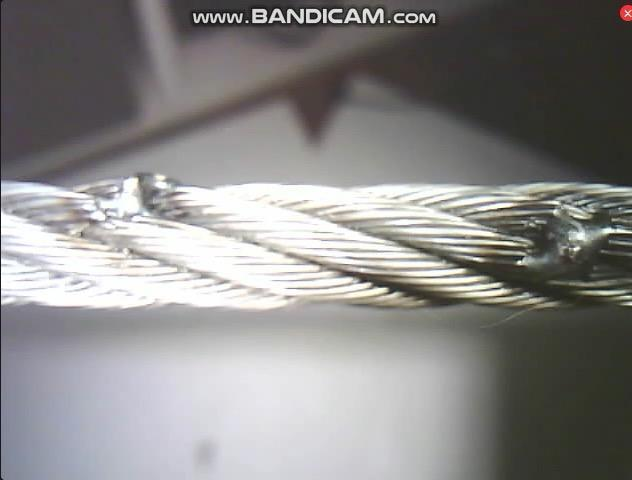thunderbolt: (502, 200, 619, 291), (90, 171, 189, 230)
